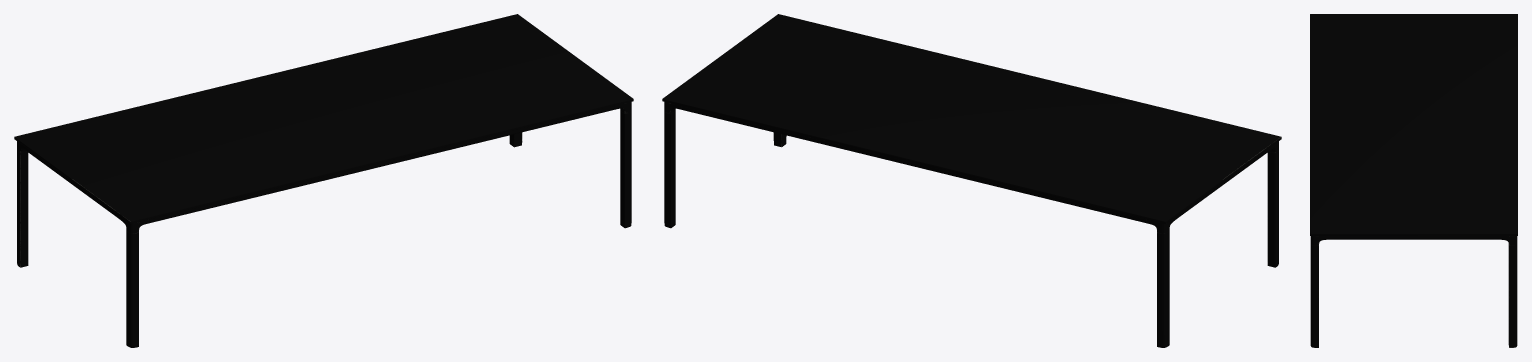
Rendered from table.fbx.
The picture shows the model from 3 angles, left to right: view 1: azimuth 30°, elevation 25°; view 2: azimuth 150°, elevation 25°; view 3: azimuth 270°, elevation 25°; orthographic projection. The views are drawn at different scales.
Visible parts, largest first — view 1: Cube.001, Cube; view 2: Cube.001, Cube; view 3: Cube.001, Cube.
Boxes of the visible parts, x1,y1,x2,y2 form: Cube.001: (14, 14, 633, 223); Cube: (17, 102, 631, 347); Cube.001: (662, 14, 1281, 223); Cube: (664, 102, 1278, 347); Cube.001: (1310, 14, 1517, 235); Cube: (1310, 236, 1517, 347).
Bounding box in the file's own units: 301 × 72.94 × 120.
